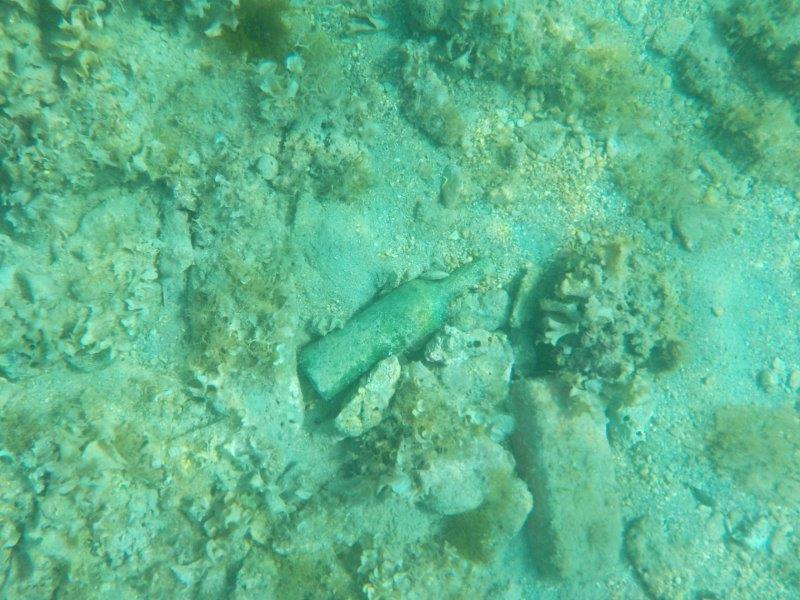bottle: (294, 250, 500, 401)
